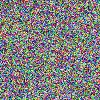dog: (40, 46, 59, 70)
